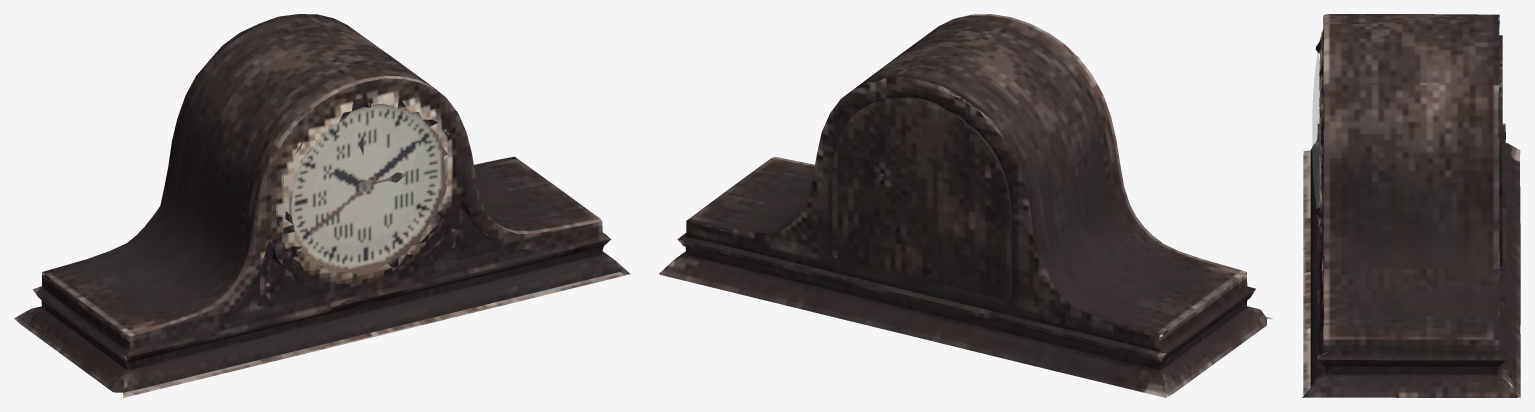
The model's file is mantel_clock.glb.
The picture shows the model from 3 angles, left to right: view 1: azimuth 30°, elevation 25°; view 2: azimuth 150°, elevation 25°; view 3: azimuth 270°, elevation 25°; orthographic projection.
Visible parts, largest first — view 1: static; view 2: static; view 3: static.
Part boxes in pixels (box(x1,y1,x2,y2)): static: box(14, 14, 630, 397); static: box(659, 14, 1272, 397); static: box(1302, 14, 1520, 397).
Bounding box in the file's own units: 0.8125 × 0.3792 × 0.3024.
2 materials, 2 textured.
